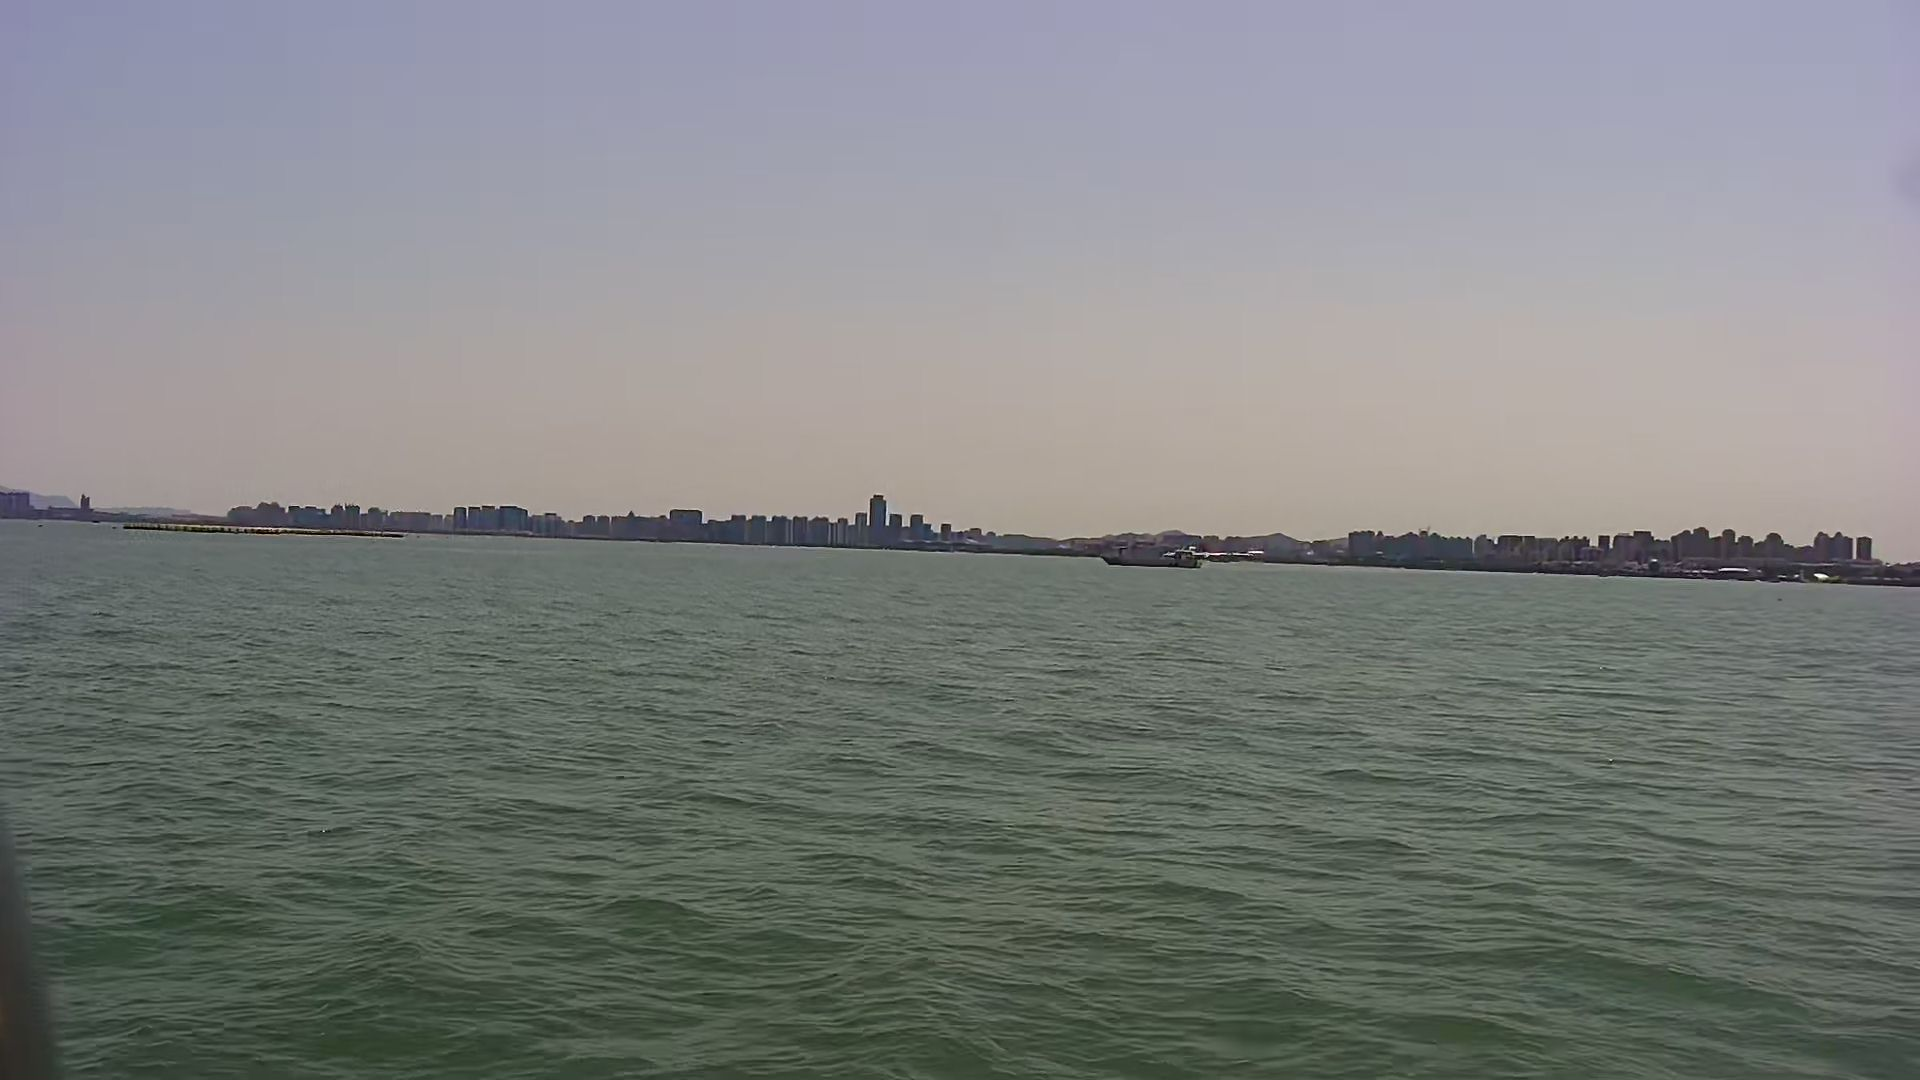ship: (1096, 539, 1205, 568)
